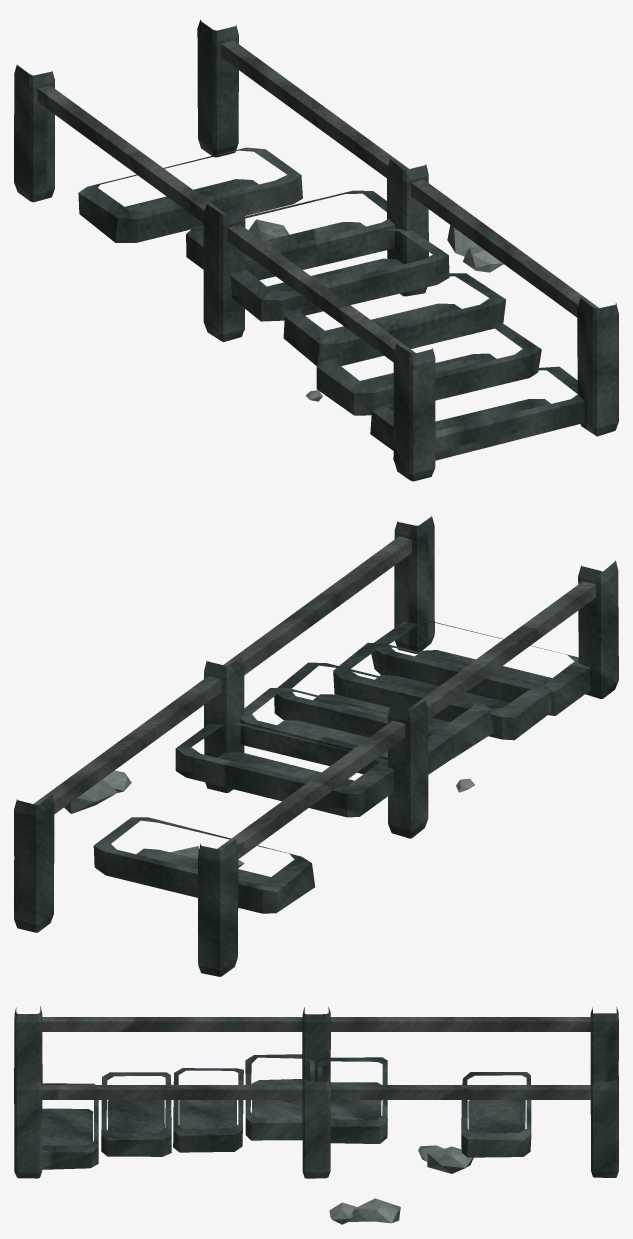
Rendered from 0382_ruined_bridge_07.glb.
3 renders of one model, top to bottom at view 1: azimuth 30°, elevation 25°; view 2: azimuth 150°, elevation 25°; view 3: azimuth 270°, elevation 25°, orthographic. The views are drawn at different scales.
Parts seen in each view (by area): view 1: stone_dark, iron, stone; view 2: stone_dark, iron, stone; view 3: stone_dark, iron, stone.
Boxes of the visible parts, bbox=[...] form: stone_dark: bbox=[14, 19, 618, 481]; iron: bbox=[37, 40, 599, 362]; stone: bbox=[248, 219, 503, 401]; stone_dark: bbox=[14, 515, 618, 976]; iron: bbox=[33, 536, 595, 858]; stone: bbox=[64, 770, 474, 867]; stone_dark: bbox=[14, 1006, 618, 1178]; iron: bbox=[42, 1017, 590, 1099]; stone: bbox=[329, 1145, 473, 1224].
Size of the model in its own units: 2.5 by 1.1 by 5.39.
3 materials, 3 textured.
